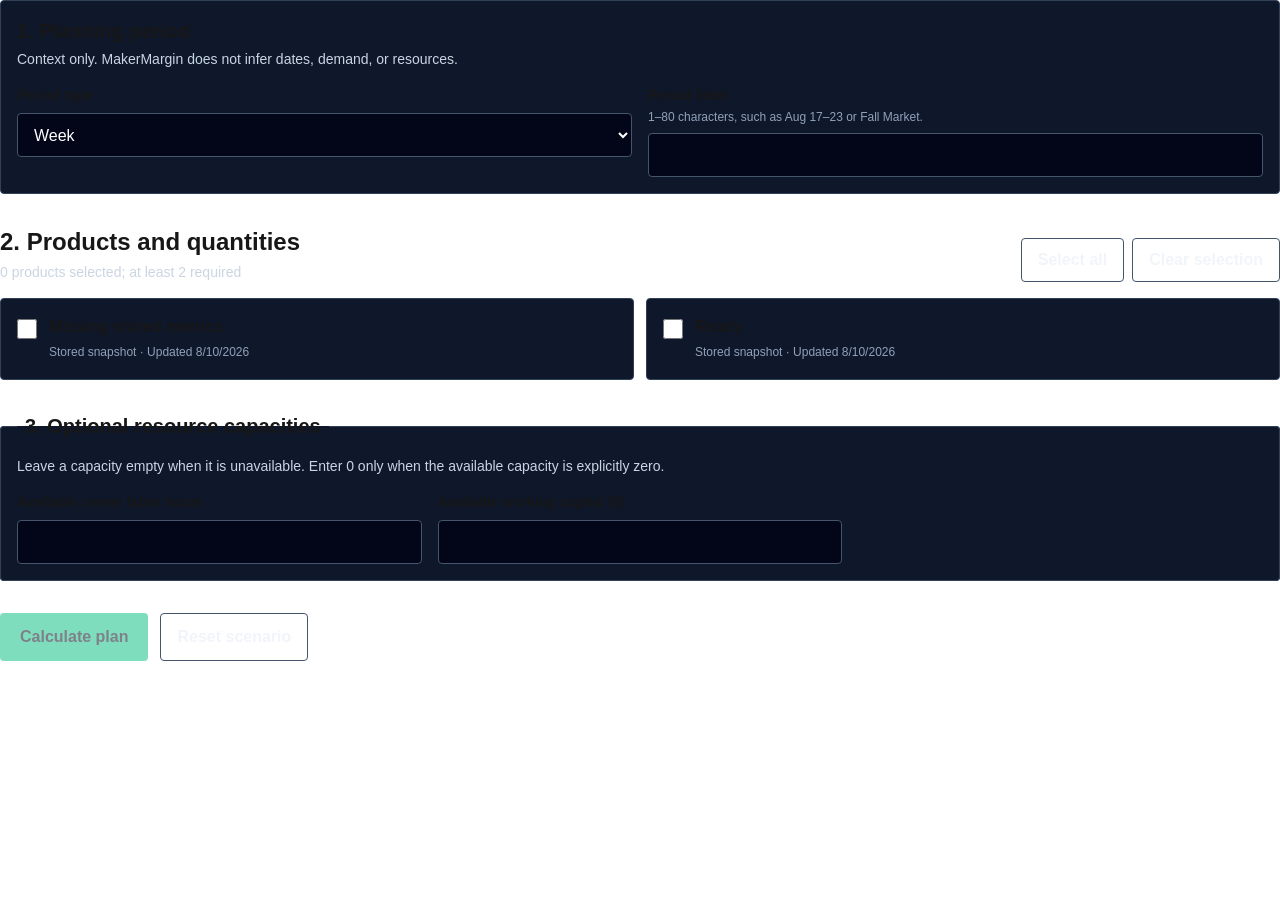
PlanWorkspace engine states and results › renders repeated readiness-reason codes without duplicate React keys
The width and height of the screenshot is (1280, 900).
Step 1. Click the button "Select all" → (1072, 260), box [1021,238,1124,282]
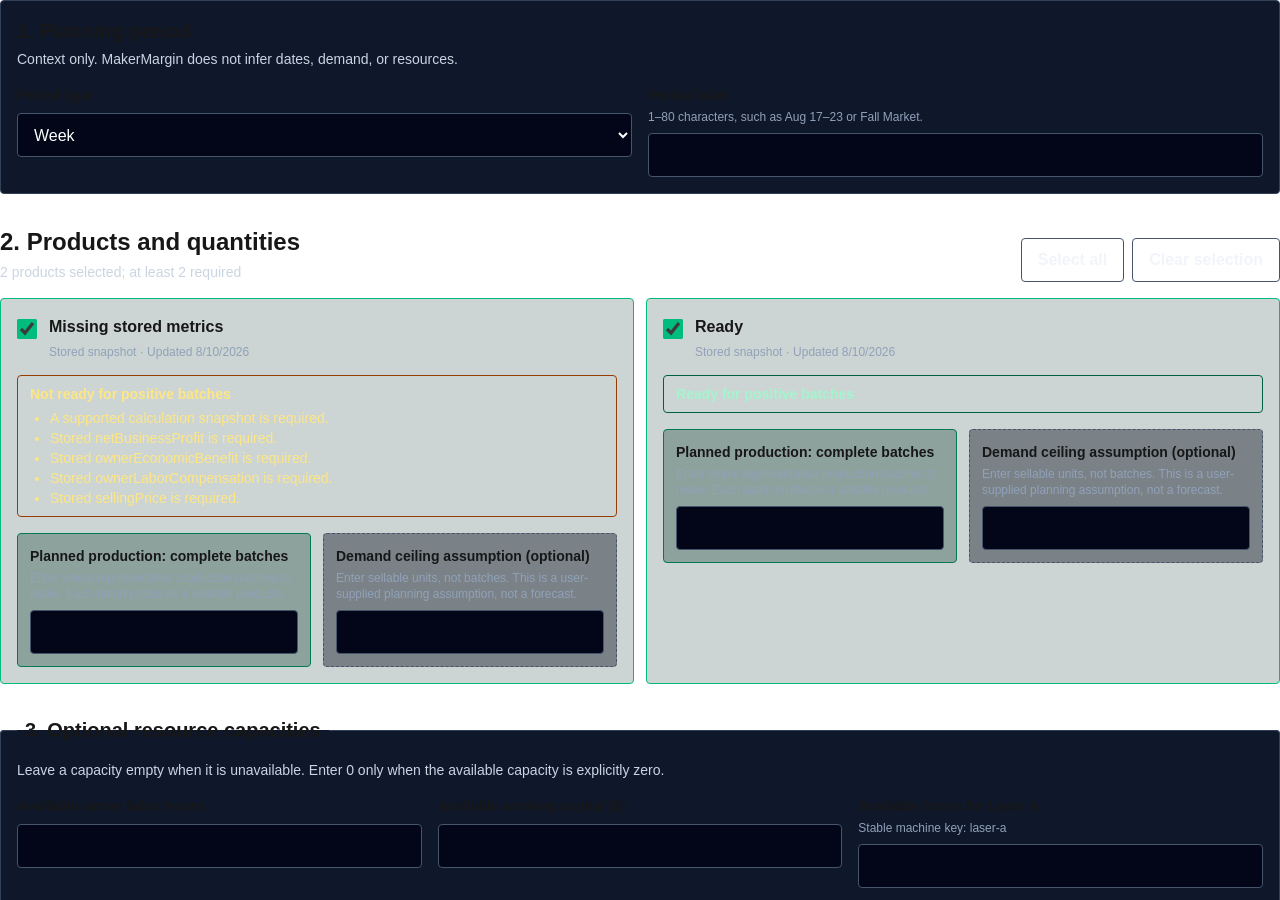
Result: the number of list items "Stored netBusinessProfit is required." is 4 at [50,430,277,446]; [50,450,312,466]; [50,470,332,486]; [50,490,240,506]
